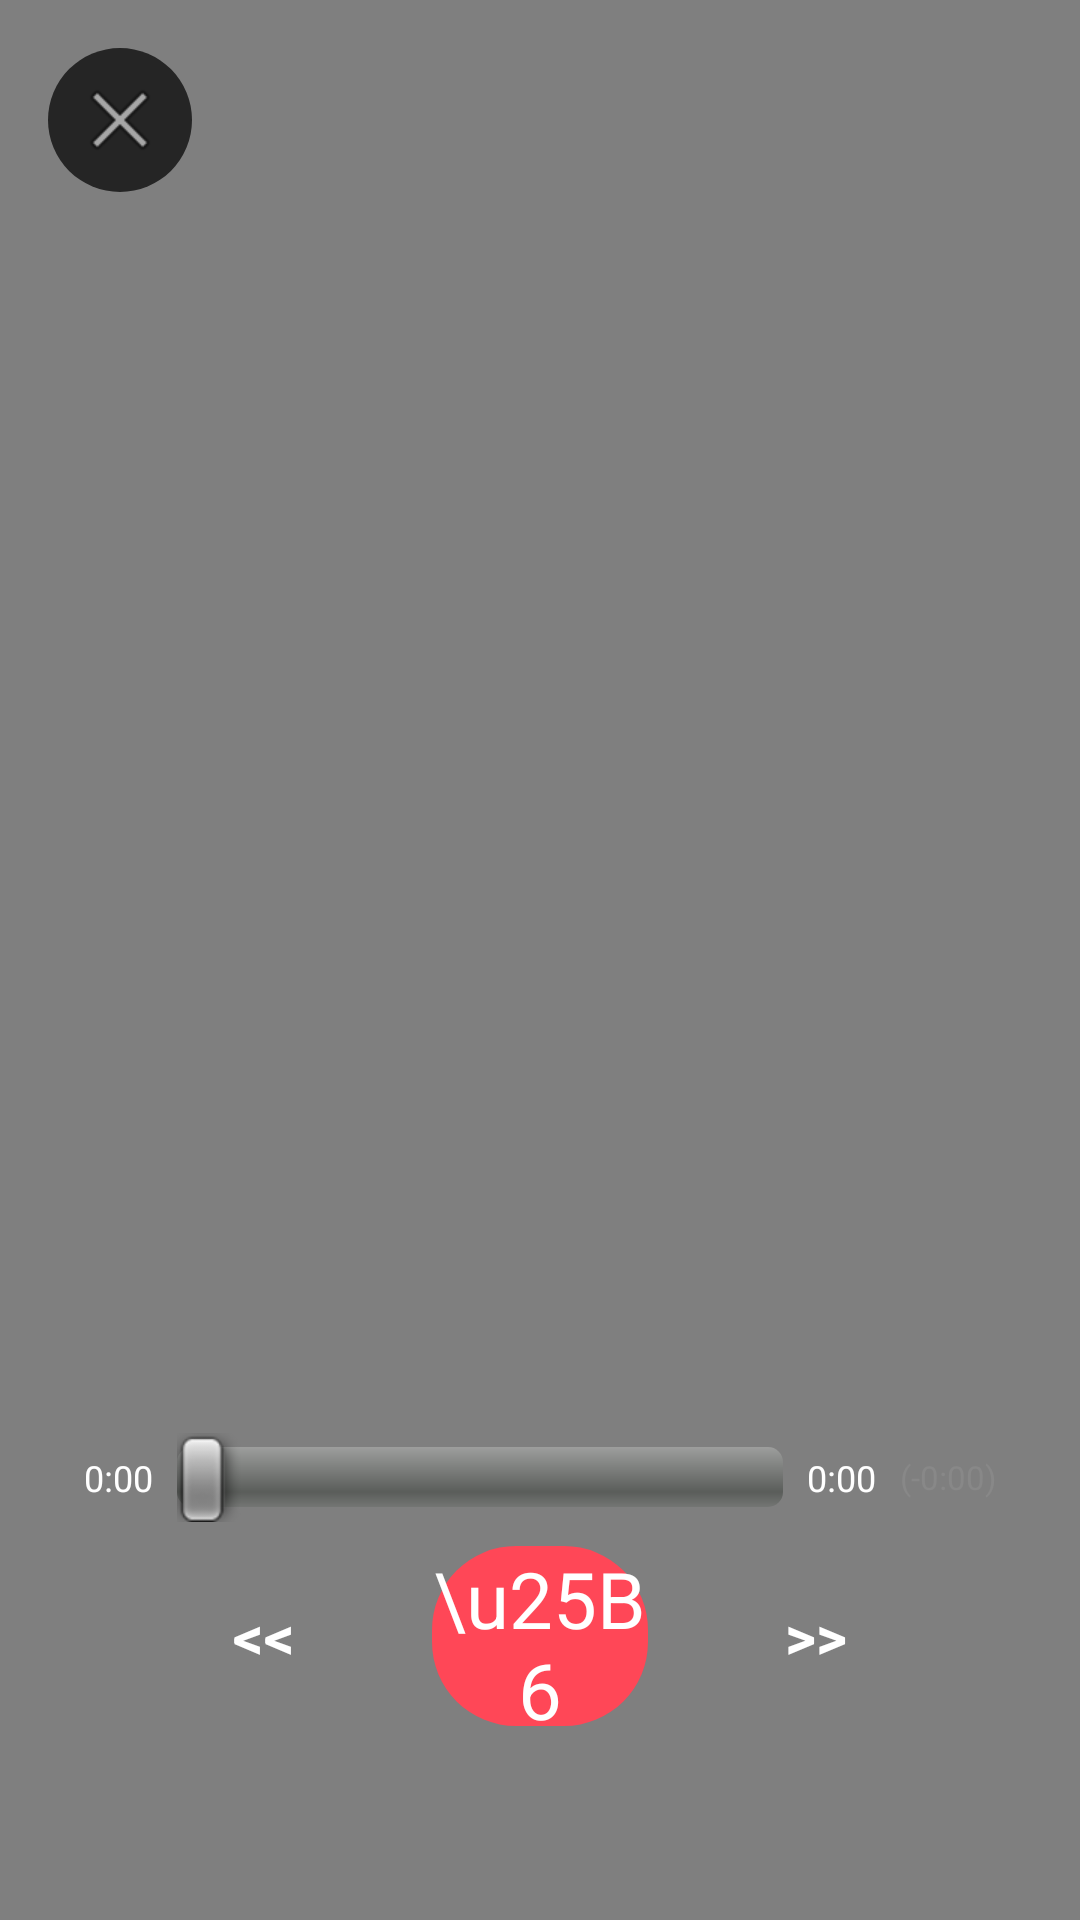

Icons on this 1080px x 1920px Android screen, each with the point to tap as point (x, y):
close clear cancel: point (120, 120)
